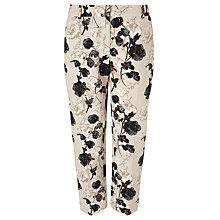C_W_pants: (60, 1, 148, 218)
